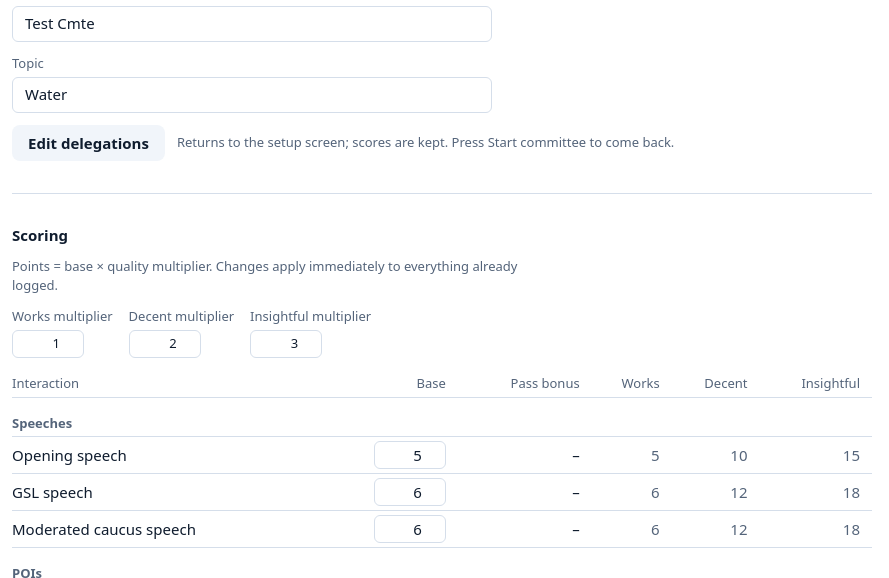
Test: SettingsPanel › resets scoring to defaults
Replace the text in the number field named "Base points for GSL speech" with "10" at point(410, 492), box [374,478,446,506]
(page scrolled)
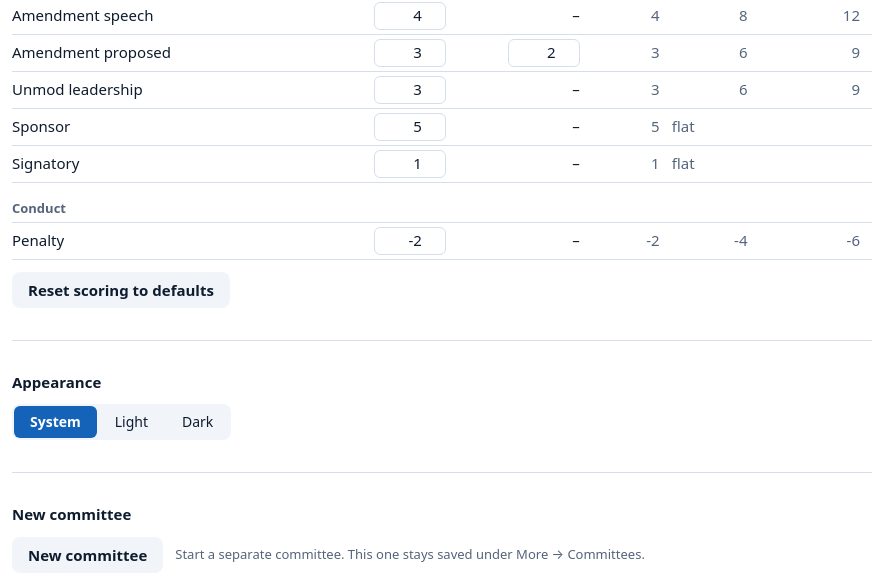
Click the button "Reset scoring to defaults" at point(121, 290), box [12,272,230,308]
(page scrolled)
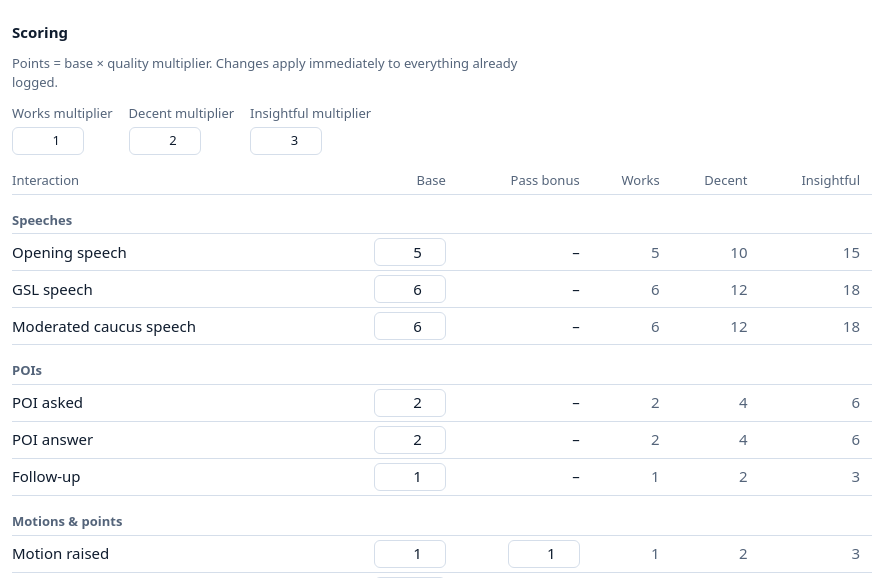
Result: the number field named "Base points for GSL speech" holds "6" at [374,275,446,303]
